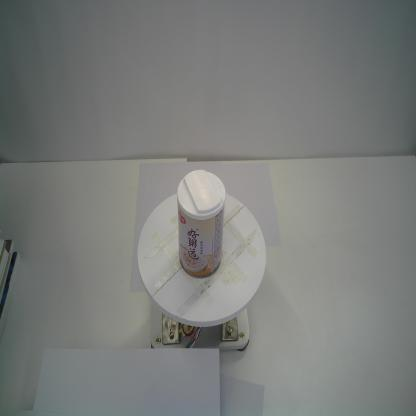Canned Food: (176, 169, 226, 278)
